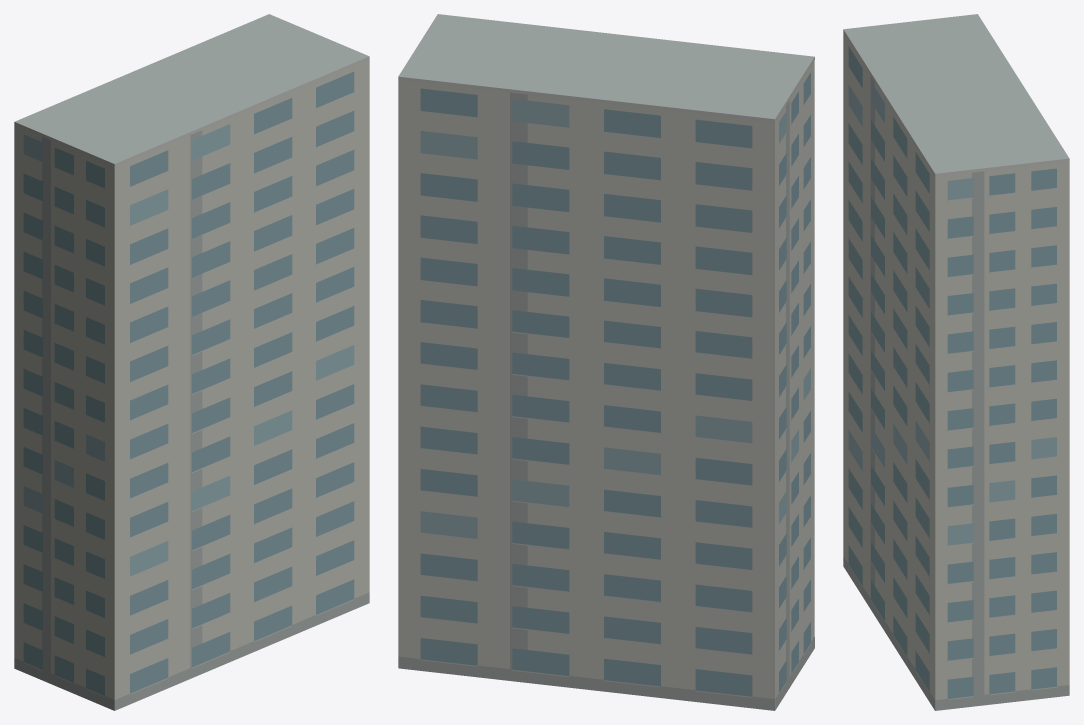
File: residential-32750ff7-7f0c-4e05-9d47-15ba9f9ee2cb.glb
3 renders of one model, left to right at view 1: azimuth 30°, elevation 25°; view 2: azimuth 150°, elevation 25°; view 3: azimuth 270°, elevation 25°, orthographic. The views are drawn at different scales.
Visible parts, largest first — view 1: residential-32750ff7-7f0c-4e05-9d47-15ba9f9ee2cb.tmp; view 2: residential-32750ff7-7f0c-4e05-9d47-15ba9f9ee2cb.tmp; view 3: residential-32750ff7-7f0c-4e05-9d47-15ba9f9ee2cb.tmp.
Part boxes in pixels (x1,y1,x2,y2): residential-32750ff7-7f0c-4e05-9d47-15ba9f9ee2cb.tmp: (14, 14, 369, 710); residential-32750ff7-7f0c-4e05-9d47-15ba9f9ee2cb.tmp: (398, 14, 814, 710); residential-32750ff7-7f0c-4e05-9d47-15ba9f9ee2cb.tmp: (843, 14, 1069, 710).
Bounding box in the file's own units: 27.26 × 42.7 × 16.31.
